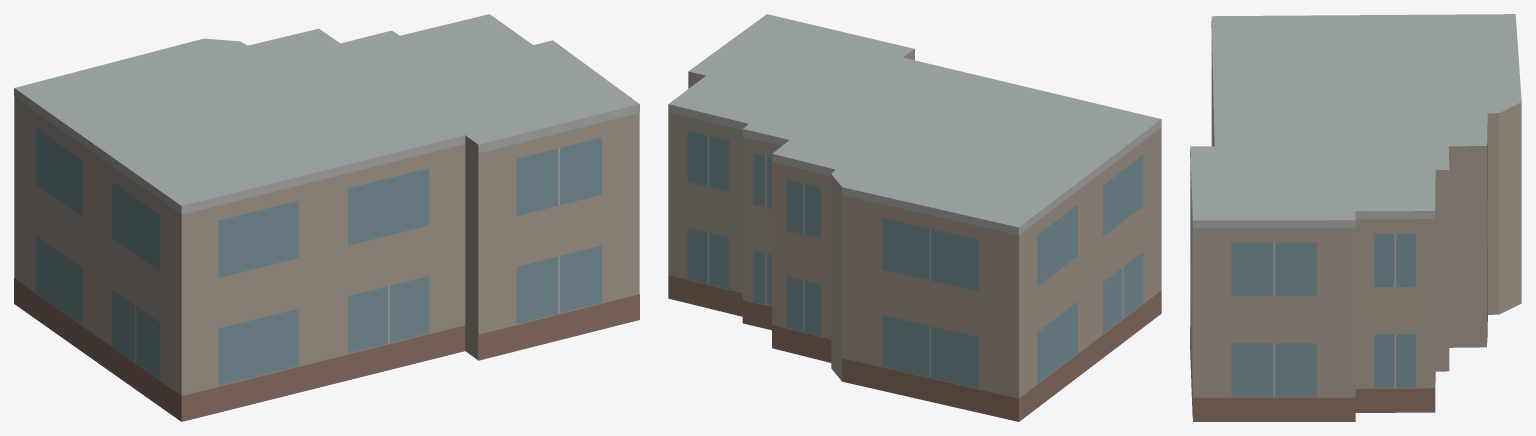
File: survey-upis-33041481.glb
3 views of the same model, side by side, from view 1: azimuth 30°, elevation 25°; view 2: azimuth 150°, elevation 25°; view 3: azimuth 270°, elevation 25° (orthographic). The views are drawn at different scales.
Parts seen in each view (by area): view 1: survey-upis-33041481.tmp; view 2: survey-upis-33041481.tmp; view 3: survey-upis-33041481.tmp.
Part boxes in pixels (bbox=[...]): survey-upis-33041481.tmp: bbox=[14, 14, 639, 421]; survey-upis-33041481.tmp: bbox=[668, 14, 1161, 421]; survey-upis-33041481.tmp: bbox=[1190, 14, 1521, 421].
Size of the model in its own units: 13.41 by 6.1 by 9.11.
